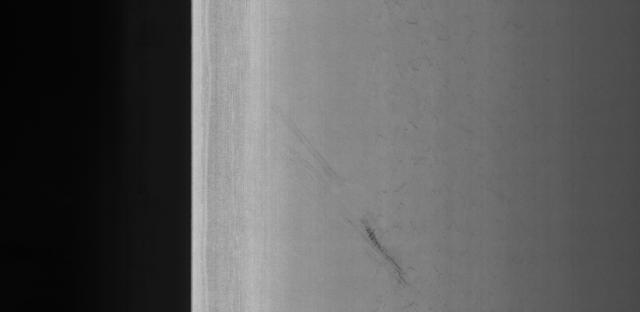silk_spot: (377, 16, 516, 191)
water_spot: (349, 210, 426, 294)
